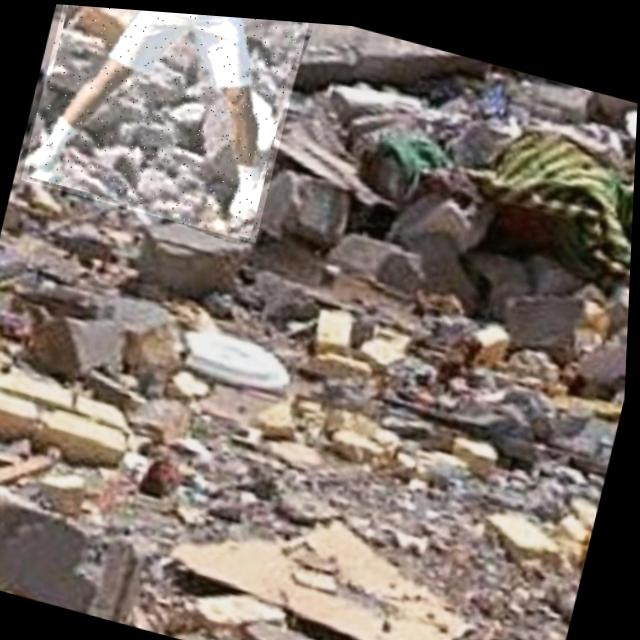Person in Rubble: (20, 2, 310, 242)
